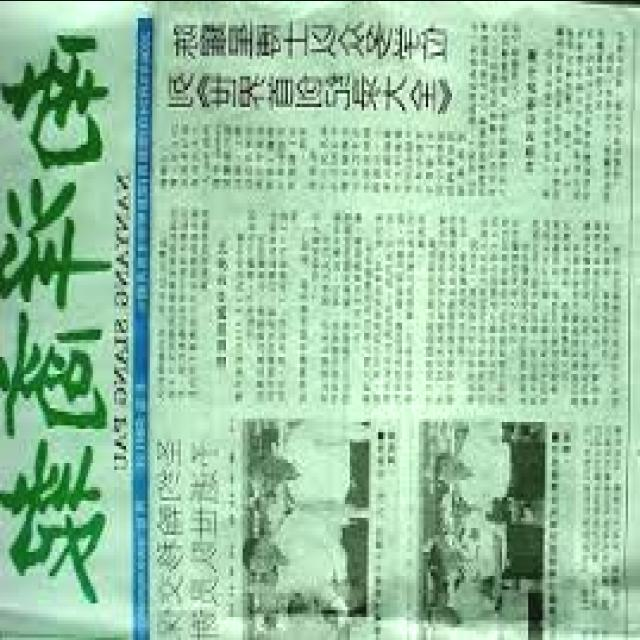paper: (2, 3, 640, 639)
